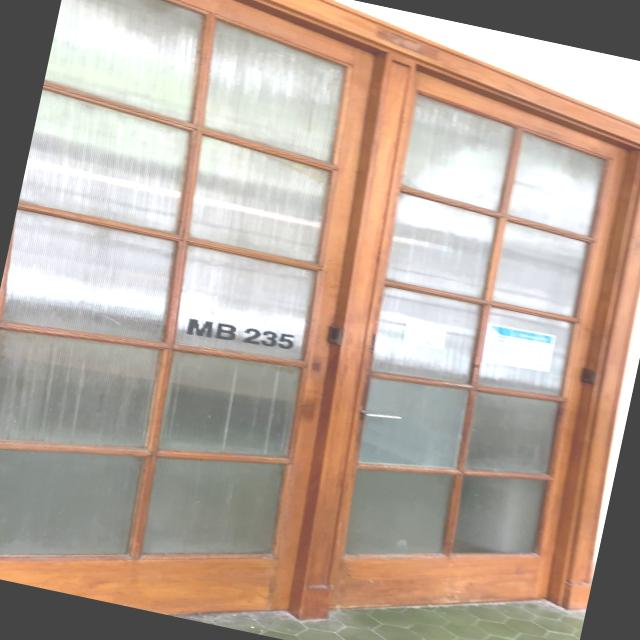room235Window: (182, 310, 298, 360)
